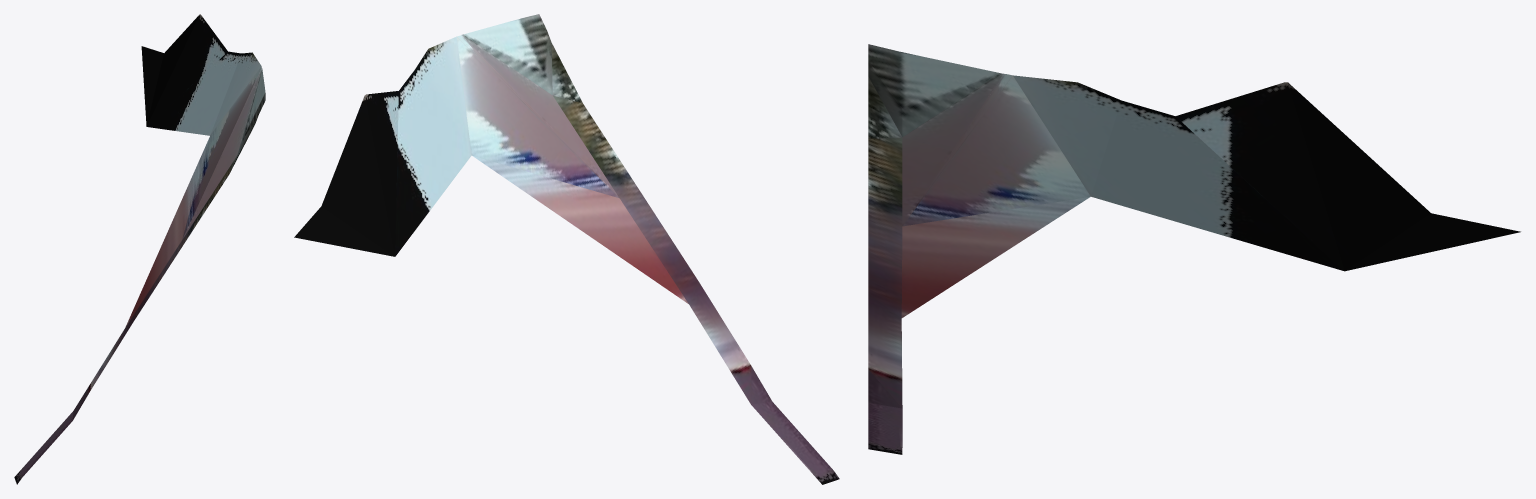
3 renders of one model, left to right at view 1: azimuth 30°, elevation 25°; view 2: azimuth 150°, elevation 25°; view 3: azimuth 270°, elevation 25°, orthographic. The views are drawn at different scales.
Size of the model in its own units: 1.56 by 1.67 by 1.53.
1 material, 1 textured.
